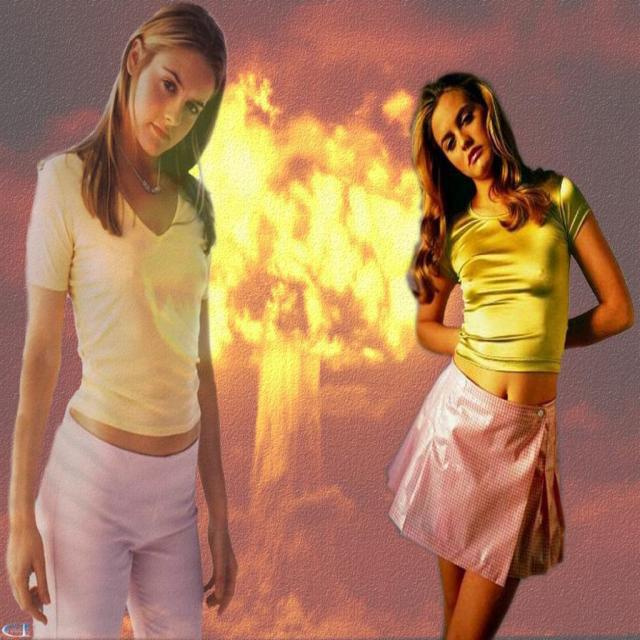no-earmuff: (111, 22, 152, 92)
